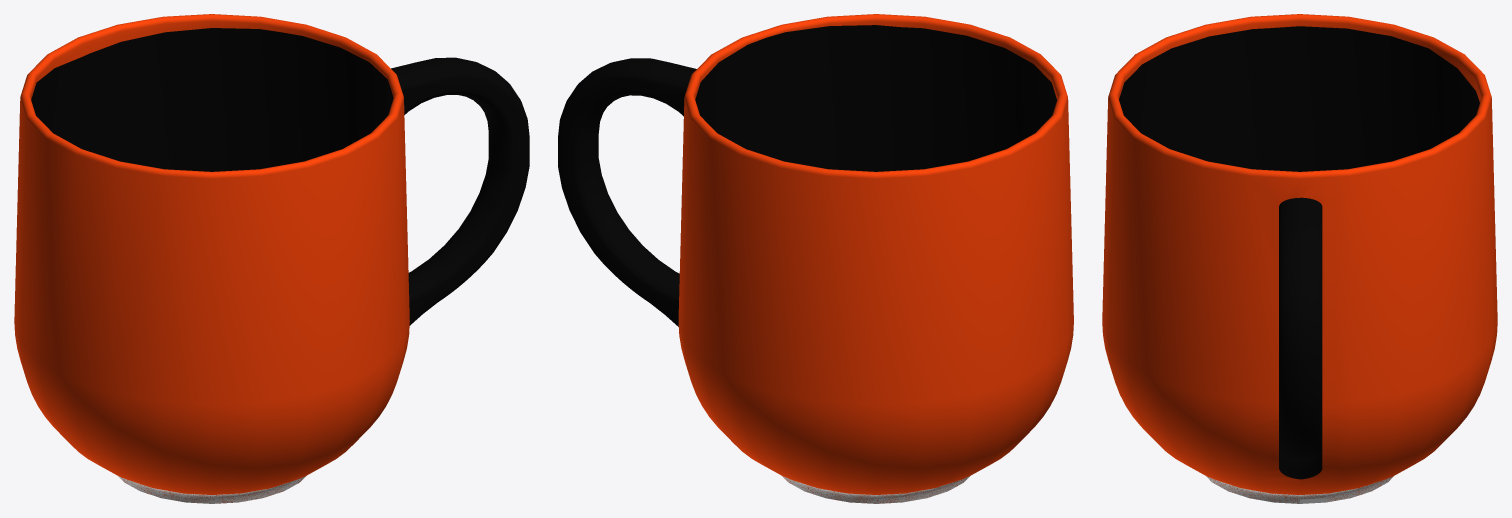
Rendered from mug_10_origin_gt_7.dae.
3 renders of one model, left to right at view 1: azimuth 30°, elevation 25°; view 2: azimuth 150°, elevation 25°; view 3: azimuth 270°, elevation 25°, orthographic.
Parts seen in each view (by area): view 1: SketchUp (×3), group_0; view 2: SketchUp (×3), group_0; view 3: SketchUp (×3), group_0.
Part boxes in pixels (x1,y1,x2,y2): SketchUp (×3): (14, 14, 409, 503); group_0: (391, 57, 529, 325); SketchUp (×3): (678, 14, 1073, 503); group_0: (558, 58, 696, 326); SketchUp (×3): (1102, 14, 1497, 503); group_0: (1279, 197, 1322, 479).
Size of the model in its own units: 5.96 by 4.21 by 4.32.
